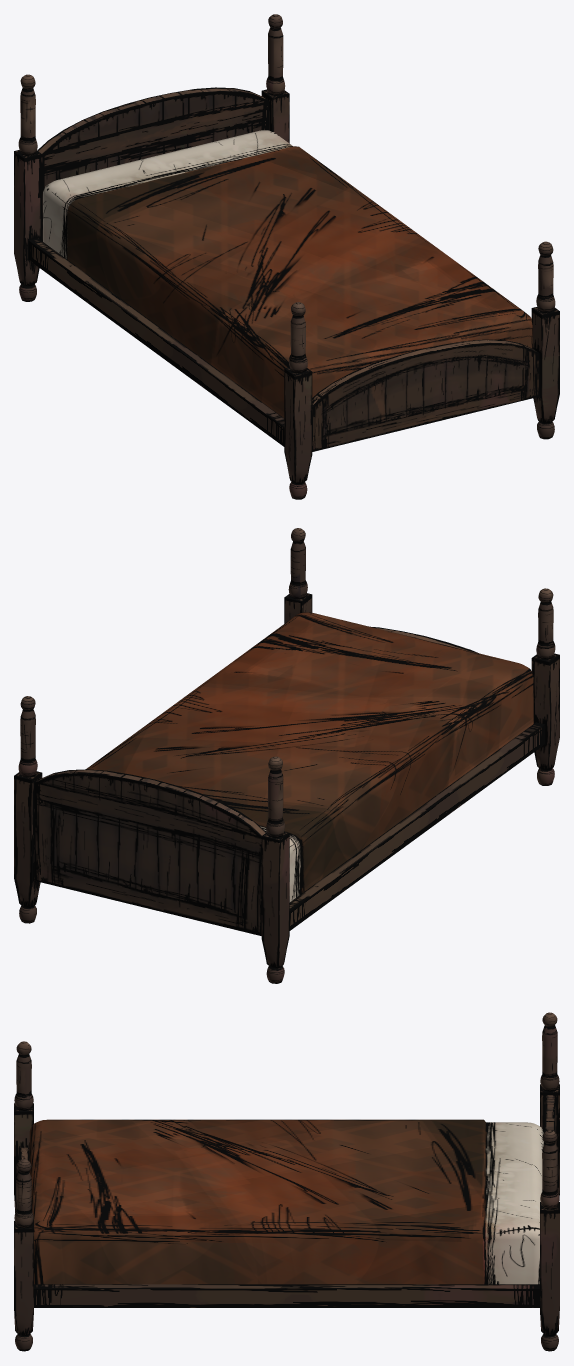
Rendered from bed.fbx.
3 views of the same model, one above another, from view 1: azimuth 30°, elevation 25°; view 2: azimuth 150°, elevation 25°; view 3: azimuth 270°, elevation 25° (orthographic). The views are drawn at different scales.
Visible parts, largest first — view 1: Bed, Bedframe; view 2: Bed, Bedframe; view 3: Bed, Bedframe.
Part boxes in pixels (x1,y1,x2,y2): Bed: (43, 130, 532, 417); Bedframe: (14, 14, 559, 499); Bed: (86, 612, 533, 902); Bedframe: (14, 528, 559, 983); Bed: (29, 1119, 543, 1284); Bedframe: (14, 1012, 559, 1351).
Bounding box in the file's own units: 794 × 640 × 1452.
